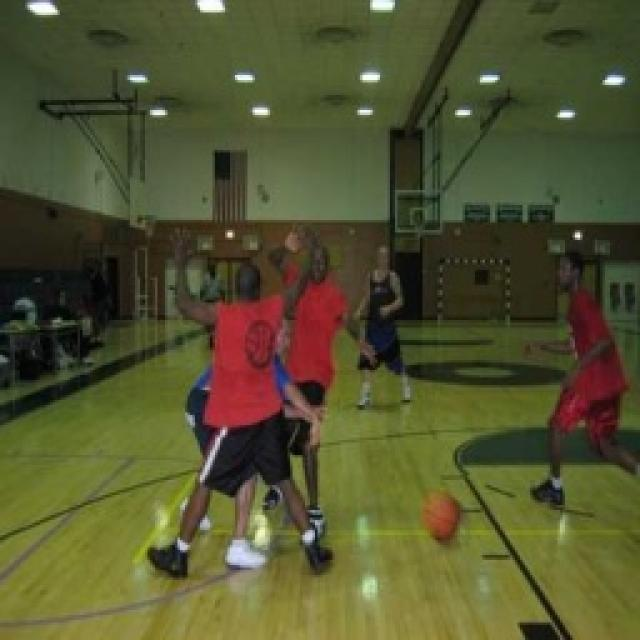rim: (421, 486, 464, 545)
